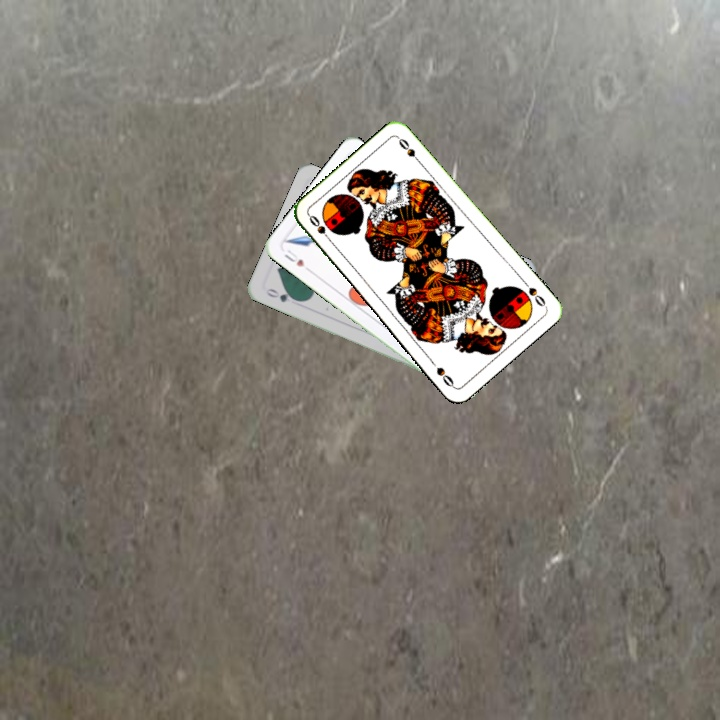GO: (261, 284, 301, 305)
HU: (280, 245, 307, 270)
SO: (518, 276, 549, 310), (305, 211, 335, 246)
